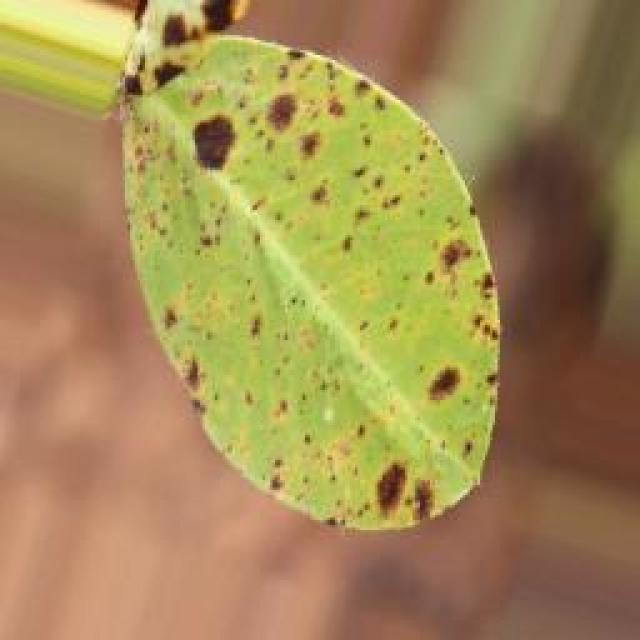Yellowish: (63, 23, 531, 586)
